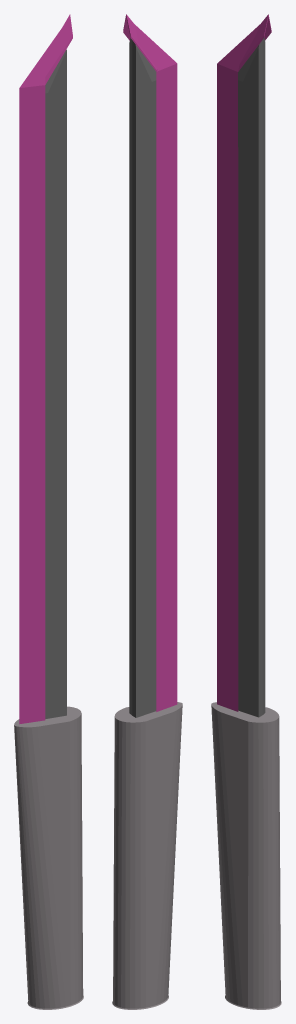
The model's file is sabre4.fbx.
3 views of the same model, side by side, from view 1: azimuth 30°, elevation 25°; view 2: azimuth 210°, elevation 25°; view 3: azimuth 330°, elevation 25° (orthographic).
Visible parts, largest first — view 1: LVL3.003, manche LVL3.001, LVL3.002; view 2: LVL3.002, manche LVL3.001, LVL3.003; view 3: LVL3.002, manche LVL3.001, LVL3.003.
Part boxes in pixels (x1,y1,x2,y2): LVL3.003: (19,14,72,724); manche LVL3.001: (14,706,83,1009); LVL3.002: (45,49,66,718); LVL3.002: (129,37,156,717); manche LVL3.001: (112,702,182,1009); LVL3.003: (123,14,177,711); LVL3.002: (238,37,265,717); manche LVL3.001: (211,702,281,1009); LVL3.003: (217,14,271,711).
Size of the model in its own units: 12.86 by 179 by 7.06.
